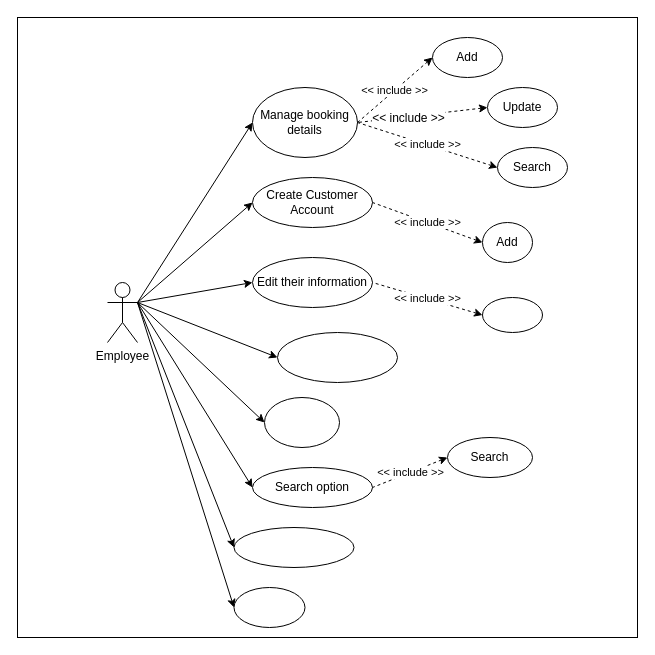
The diagram is 655 pixels wide and 655 high, and some of its shapes have lost their labels. The box of each missing label's shape, as (x1, y1, x2, y2) in pixels:
Edit: (482, 296, 542, 332)
Login: (233, 586, 305, 628)
Make a booking: (233, 526, 354, 568)
Print ticket: (264, 396, 340, 448)
Tracking seat details: (276, 332, 398, 382)
